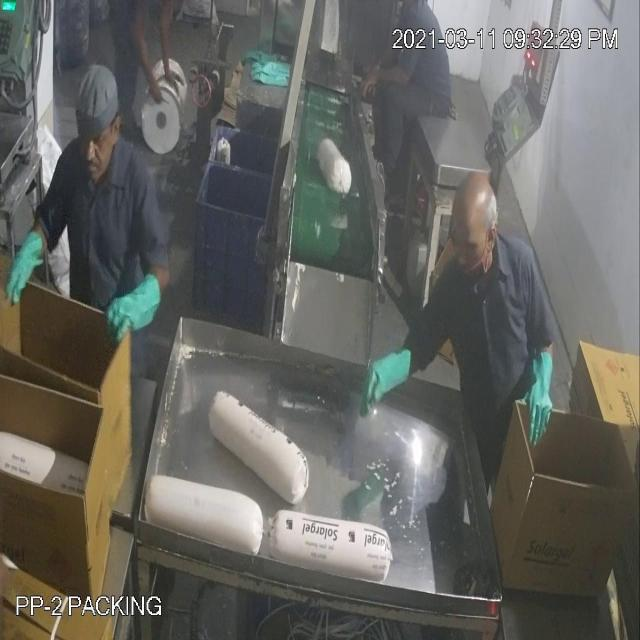Gloves: (29, 48, 542, 395)
